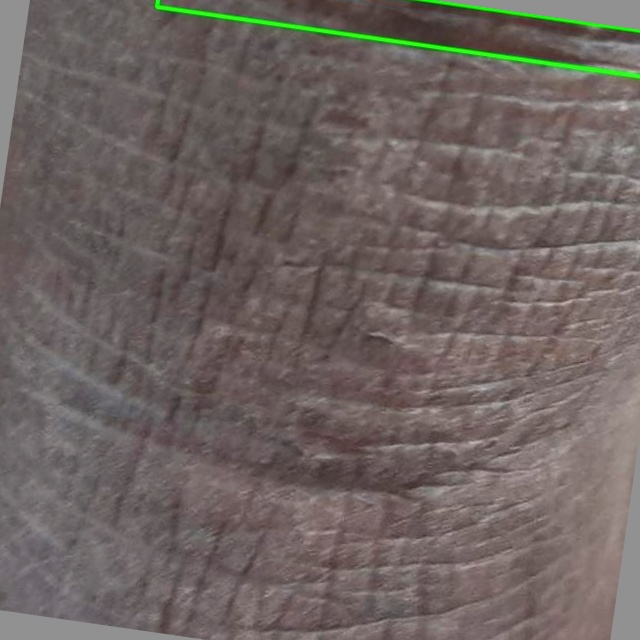Eczema: (157, 0, 639, 76)
